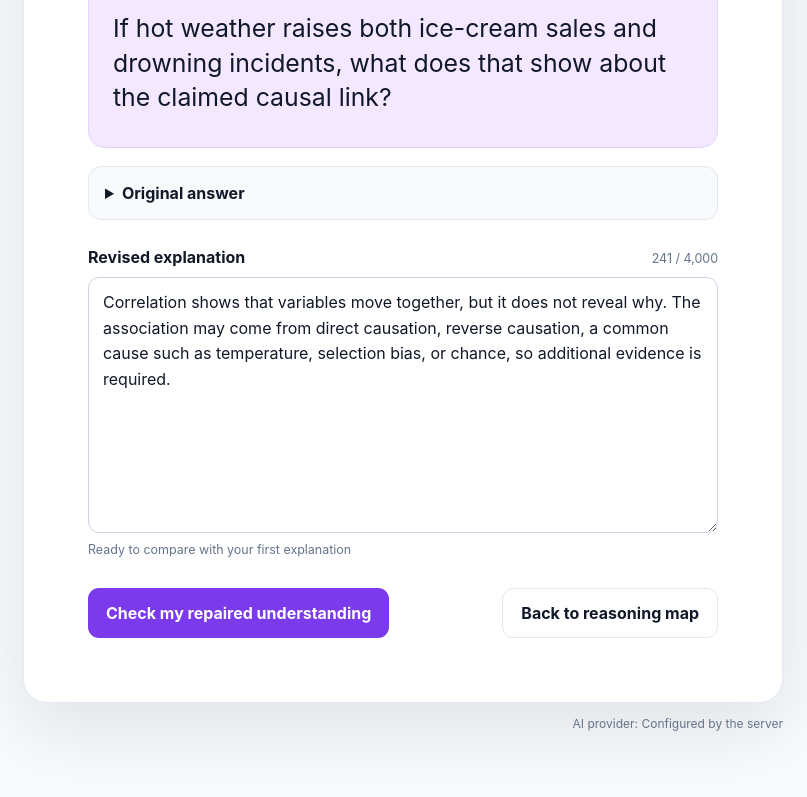
Test: rejects a unchanged repair response instead of rendering improvement copy
(page scrolled)
Click the button "Check my repaired understanding": [239, 613] box 88,588 -> 389,638
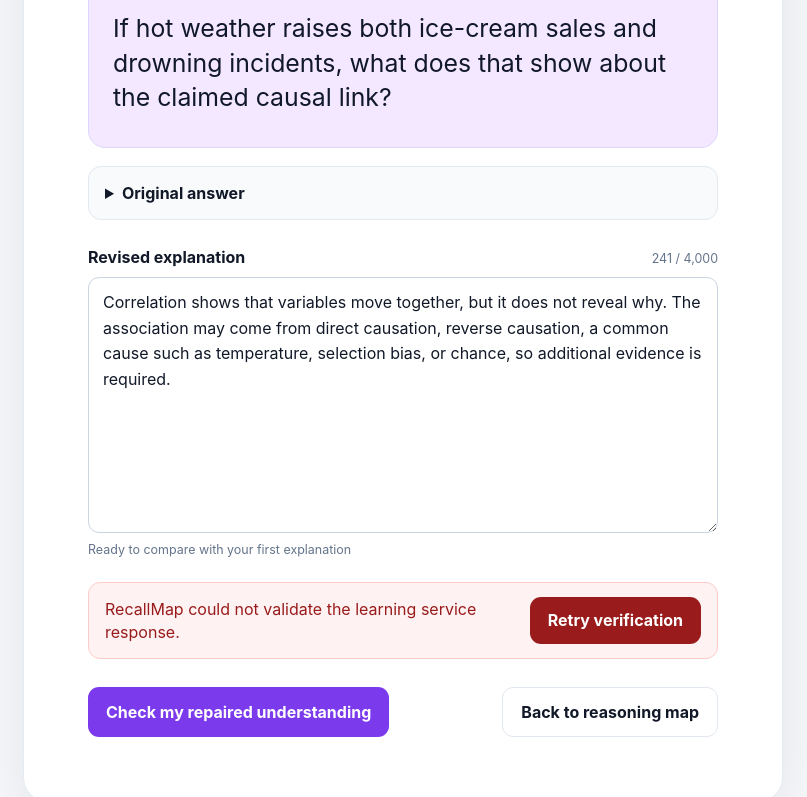
Expected: the text box labelled "Revised explanation" holds "Correlation shows that variables move together, but it does not reveal why. The association may come from direct causation, reverse causation, a common cause su", 88,277 -> 718,533
Expected: the message "RecallMap could not validate the learning service response. Retry verification" is shown, 88,582 -> 718,659
